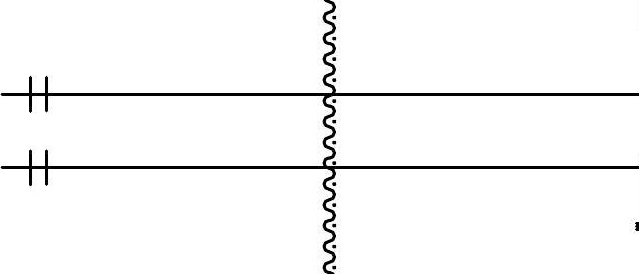115_buffer: (29, 76, 48, 113), (29, 149, 48, 186)
